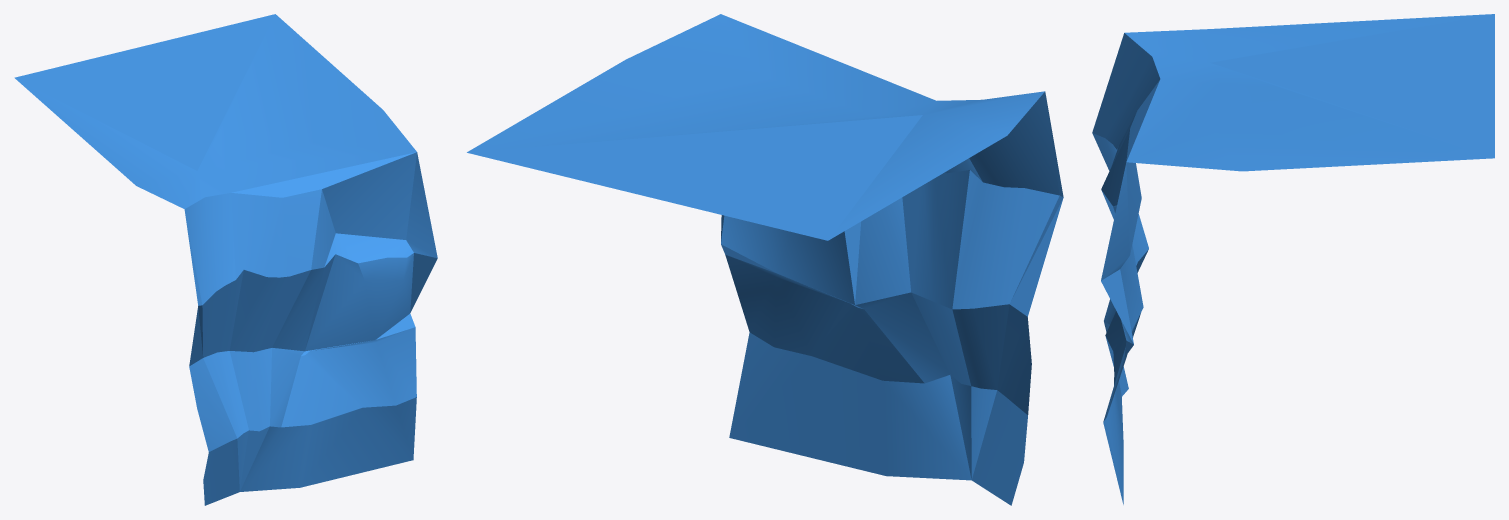
The model's file is Water_Waterfall_01.fbx.
3 views of the same model, side by side, from view 1: azimuth 30°, elevation 25°; view 2: azimuth 150°, elevation 25°; view 3: azimuth 270°, elevation 25° (orthographic). The views are drawn at different scales.
Visible parts, largest first — view 1: Water_Waterfall_01; view 2: Water_Waterfall_01; view 3: Water_Waterfall_01.
Boxes of the visible parts, x1,y1,x2,y2 form: Water_Waterfall_01: (14,14,437,505); Water_Waterfall_01: (467,14,1063,505); Water_Waterfall_01: (1092,14,1494,504).
Size of the model in its own units: 164 by 189 by 191.
